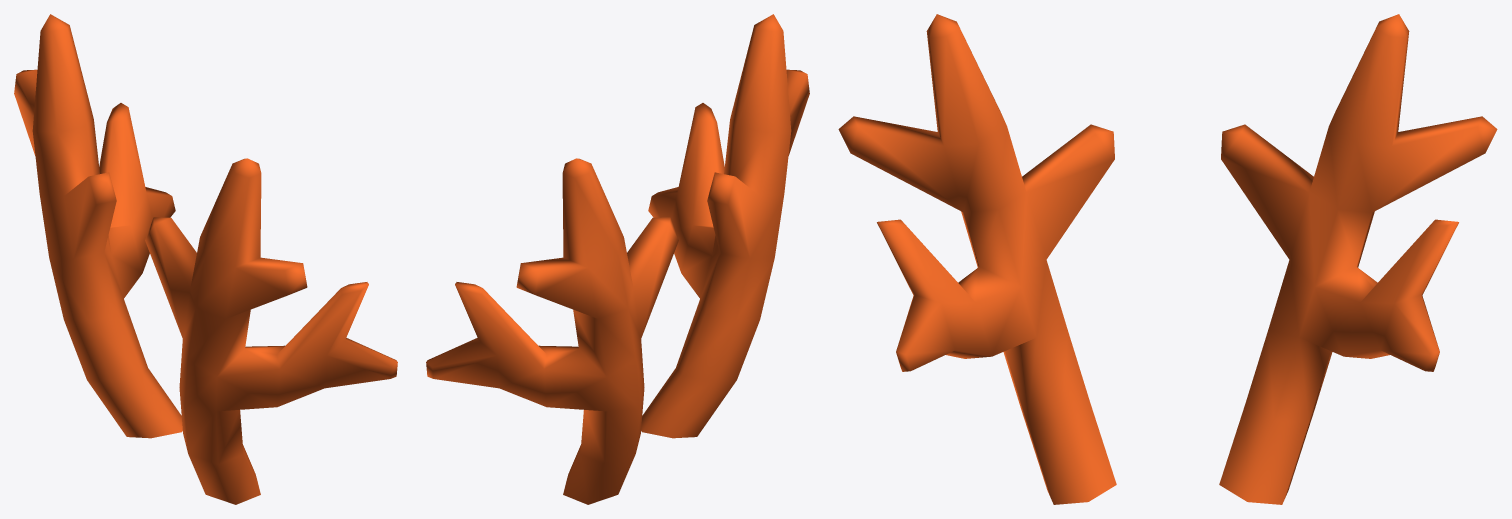
The model's file is deer horn.FBX.
3 views of the same model, side by side, from view 1: azimuth 30°, elevation 25°; view 2: azimuth 150°, elevation 25°; view 3: azimuth 270°, elevation 25° (orthographic). The views are drawn at different scales.
Parts seen in each view (by area): view 1: Cylinder167; view 2: Cylinder167; view 3: Cylinder167.
Part boxes in pixels (left/top/right/bottom): Cylinder167: left=14, top=14, right=397, bottom=504; Cylinder167: left=426, top=14, right=809, bottom=504; Cylinder167: left=838, top=14, right=1497, bottom=504.
Size of the model in its own units: 0.4605 by 1.02 by 1.34.
